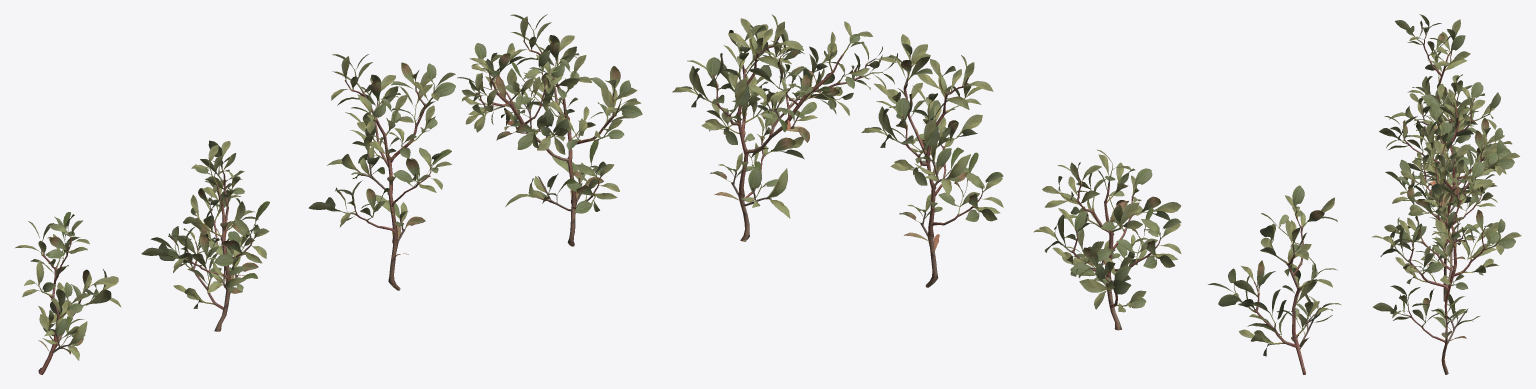
Rendered from shrub_04.fbx.
3 renders of one model, left to right at view 1: azimuth 30°, elevation 25°; view 2: azimuth 150°, elevation 25°; view 3: azimuth 270°, elevation 25°, orthographic. The views are drawn at different scales.
Visible parts, largest first — view 1: shrub_04; view 2: shrub_04; view 3: shrub_04.
Part boxes in pixels (x1,y1,x2,y2): shrub_04: [15, 14, 642, 374]; shrub_04: [672, 14, 1341, 374]; shrub_04: [1372, 14, 1521, 374].
Size of the model in its own units: 0.5837 by 0.2192 by 0.146.
Materials: 1 (1 with a texture image).
